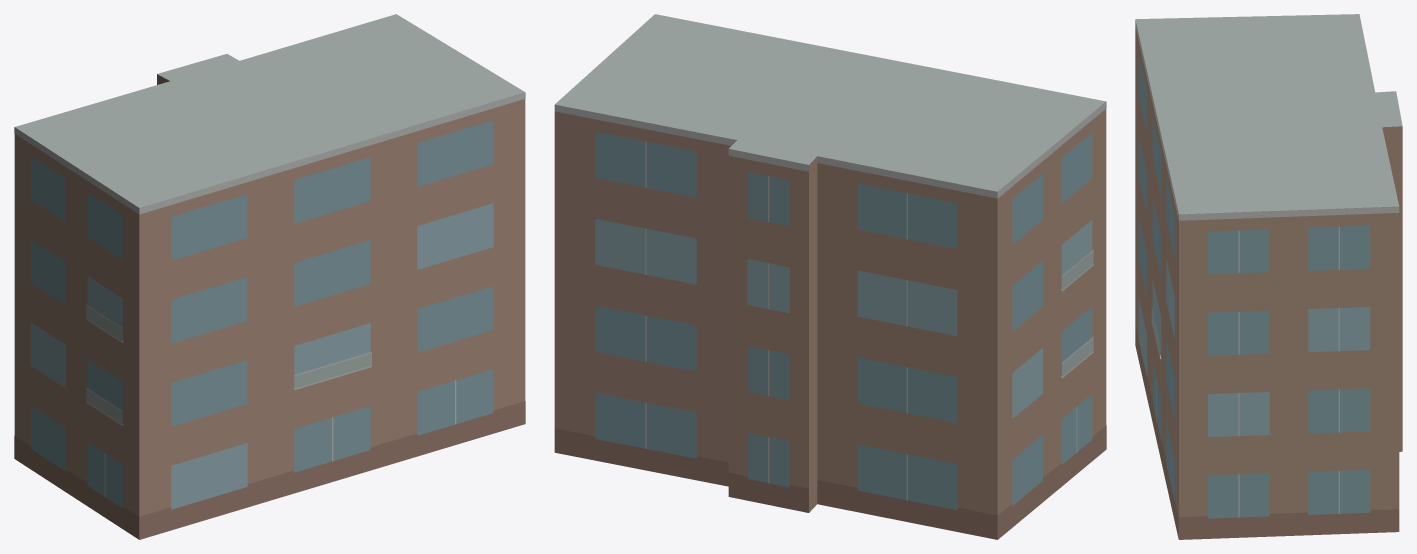
The model's file is survey-upis-32743117.glb.
The picture shows the model from 3 angles, left to right: view 1: azimuth 30°, elevation 25°; view 2: azimuth 150°, elevation 25°; view 3: azimuth 270°, elevation 25°; orthographic projection. The views are drawn at different scales.
Visible parts, largest first — view 1: survey-upis-32743117.tmp; view 2: survey-upis-32743117.tmp; view 3: survey-upis-32743117.tmp.
Boxes of the visible parts, left/top/right/bottom form: survey-upis-32743117.tmp: left=14, top=14, right=525, bottom=539; survey-upis-32743117.tmp: left=554, top=14, right=1106, bottom=539; survey-upis-32743117.tmp: left=1135, top=14, right=1402, bottom=539.
Bounding box in the file's own units: 16.45 × 12.45 × 9.28.
